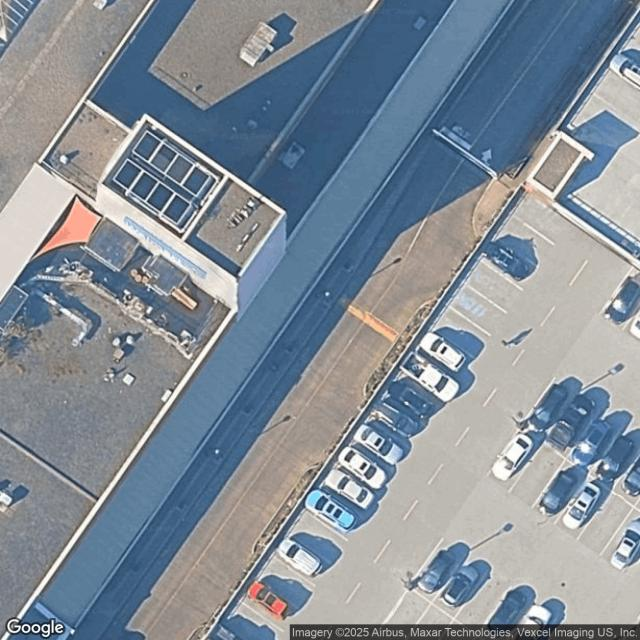car: (398, 344, 467, 408), (544, 389, 598, 459), (334, 439, 395, 497), (519, 379, 575, 441), (301, 484, 363, 539), (564, 413, 619, 472), (320, 462, 381, 515), (351, 417, 411, 470), (487, 429, 540, 489), (555, 478, 608, 538), (533, 459, 583, 522), (415, 325, 473, 378), (409, 545, 459, 604), (479, 235, 534, 287), (387, 373, 441, 425), (590, 433, 638, 491), (437, 560, 488, 614), (479, 586, 532, 636), (370, 397, 424, 445), (602, 512, 639, 576), (602, 276, 639, 326), (277, 539, 322, 576), (248, 582, 288, 621), (517, 600, 555, 639), (621, 458, 639, 502)
lot_boundary: (202, 183, 639, 639)
